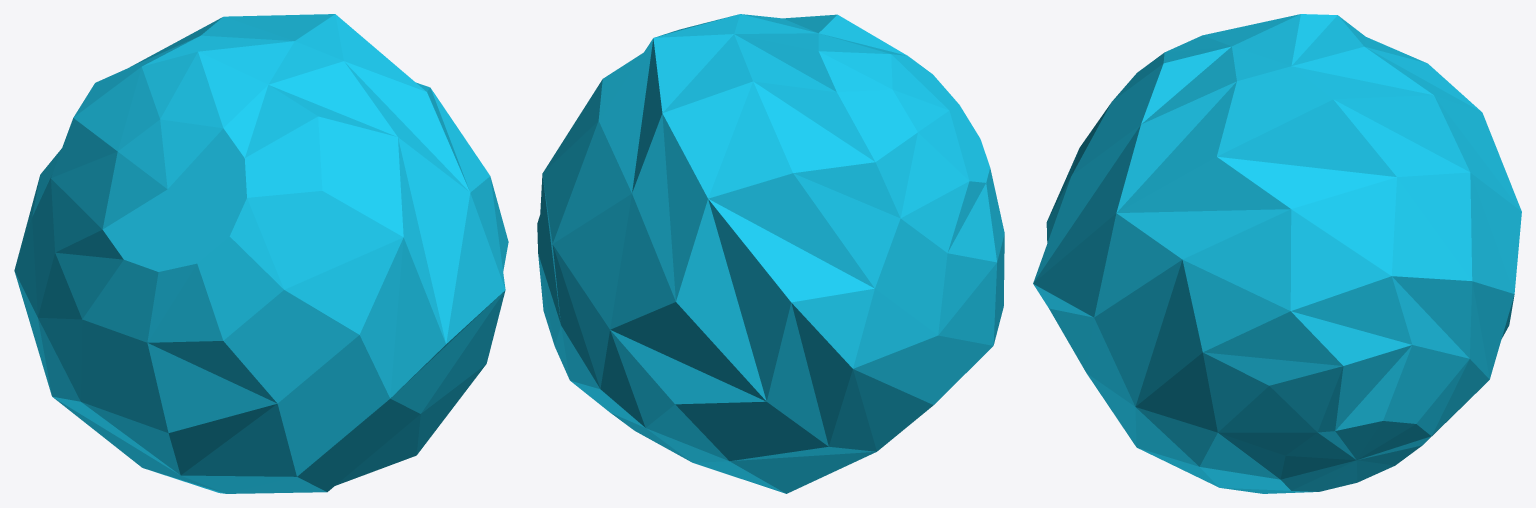
Rendered from neptune.gltf.
3 views of the same model, side by side, from view 1: azimuth 30°, elevation 25°; view 2: azimuth 150°, elevation 25°; view 3: azimuth 270°, elevation 25° (orthographic). The views are drawn at different scales.
Visible parts, largest first — view 1: kai; view 2: kai; view 3: kai.
Boxes of the visible parts, x1,y1,x2,y2 form: kai: [14, 14, 508, 493]; kai: [537, 14, 1004, 493]; kai: [1033, 14, 1521, 493].
Bounding box in the file's own units: 4.51 × 4.54 × 4.63.
